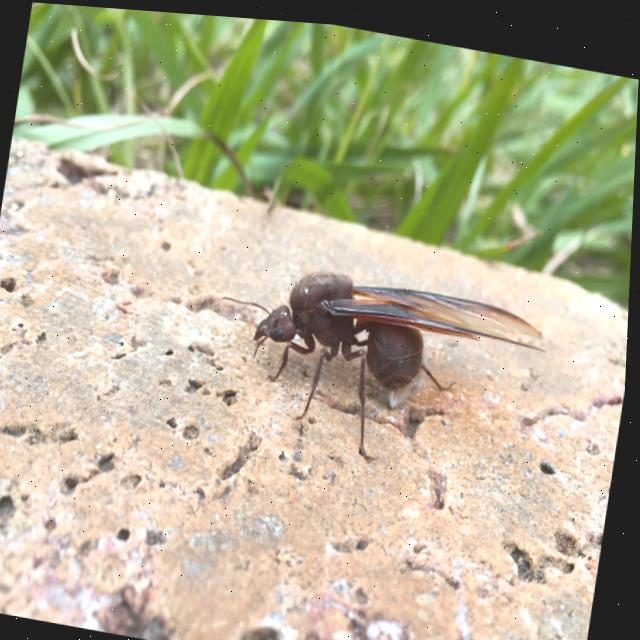Alive-Female-Alate: (203, 247, 556, 482)
